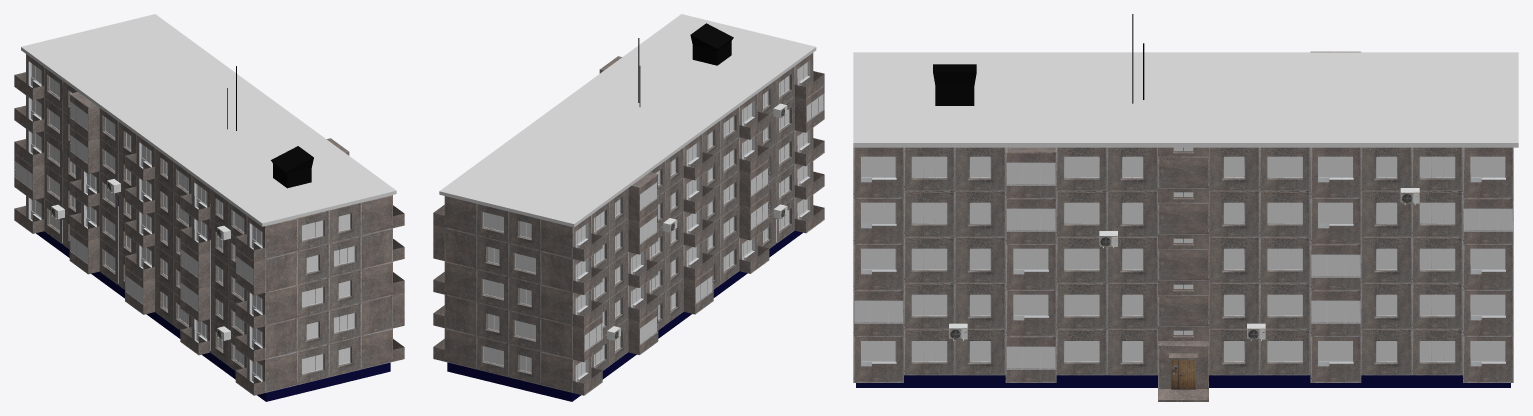
Rendered from домкрутойсоветскийskethfabи.fbx.
3 renders of one model, left to right at view 1: azimuth 30°, elevation 25°; view 2: azimuth 150°, elevation 25°; view 3: azimuth 270°, elevation 25°, orthographic. The views are drawn at different scales.
Parts seen in each view (by area): view 1: Plane.073, Plane.071, Cube.008, Plane.118, Plane.078, Plane.080, Plane.082, Plane.086, Plane.091, Plane.074, Plane.075, Plane.079 (+70 smaller); view 2: Plane.073, Cube.008, Plane.072, Plane.118, Plane.071, Plane.105, Plane.095, Plane.102, Plane.103, Plane.107, Plane.110, Plane.111 (+71 smaller); view 3: Plane.073, Plane.071, Plane.072, Plane.029, Plane.051, Plane.017, Plane.033, Plane.026, Plane.032, Plane.045, Plane.048, Plane.035 (+62 smaller).
Part boxes in pixels (<box>): Plane.073: <box>21,14,396,226</box>; Plane.071: <box>36,231,390,401</box>; Cube.008: <box>271,146,313,188</box>; Plane.118: <box>69,92,99,140</box>; Plane.078: <box>265,218,297,259</box>; Plane.080: <box>297,277,329,318</box>; Plane.082: <box>265,318,297,359</box>; Plane.086: <box>265,252,297,292</box>; Plane.091: <box>329,336,361,377</box>; Plane.074: <box>329,203,361,243</box>; Plane.075: <box>329,303,361,343</box>; Plane.079: <box>297,244,329,284</box>; Plane.073: <box>439,14,816,227</box>; Cube.008: <box>690,23,733,65</box>; Plane.072: <box>447,362,572,401</box>; Plane.118: <box>628,172,658,220</box>; Plane.071: <box>572,218,802,401</box>; Plane.105: <box>444,261,476,302</box>; Plane.095: <box>508,243,540,284</box>; Plane.102: <box>444,228,476,268</box>; Plane.103: <box>476,269,508,310</box>; Plane.107: <box>508,310,540,351</box>; Plane.110: <box>444,328,476,369</box>; Plane.111: <box>476,336,508,377</box>; Plane.073: <box>853,52,1518,147</box>; Plane.071: <box>856,375,1157,387</box>; Plane.072: <box>1209,375,1510,387</box>; Plane.029: <box>1005,147,1056,198</box>; Plane.051: <box>1310,147,1361,198</box>; Plane.017: <box>853,147,903,198</box>; Plane.033: <box>1463,147,1513,198</box>; Plane.026: <box>1259,191,1310,237</box>; Plane.032: <box>1259,237,1310,283</box>; Plane.045: <box>1056,283,1107,329</box>; Plane.048: <box>1056,329,1107,375</box>; Plane.035: <box>1259,283,1310,329</box>.
Bounding box in the file's own units: 992 × 1467 × 2620.
